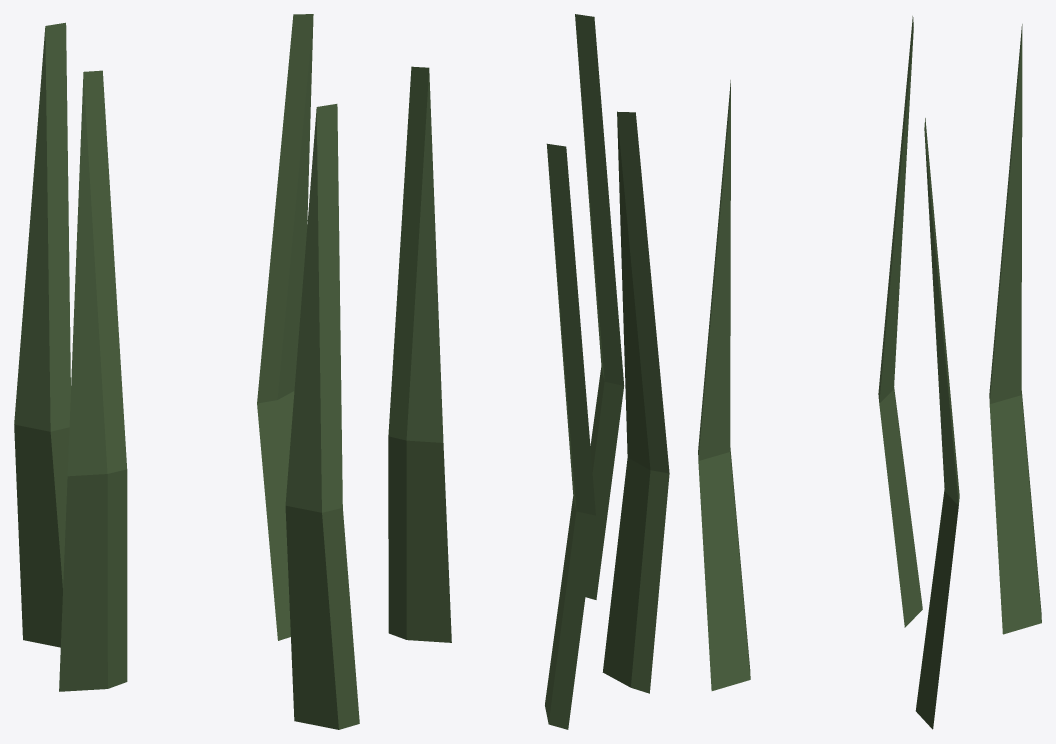
Rendered from grass_2.glb.
3 views of the same model, side by side, from view 1: azimuth 30°, elevation 25°; view 2: azimuth 150°, elevation 25°; view 3: azimuth 270°, elevation 25° (orthographic). The views are drawn at different scales.
Parts seen in each view (by area): view 1: Grass_2; view 2: Grass_2; view 3: Grass_2.
Part boxes in pixels (left/top/right/bottom): Grass_2: left=14, top=14, right=359, bottom=729; Grass_2: left=388, top=14, right=669, bottom=729; Grass_2: left=698, top=16, right=1041, bottom=729.
Size of the model in its own units: 0.2501 by 0.5237 by 0.2733.
